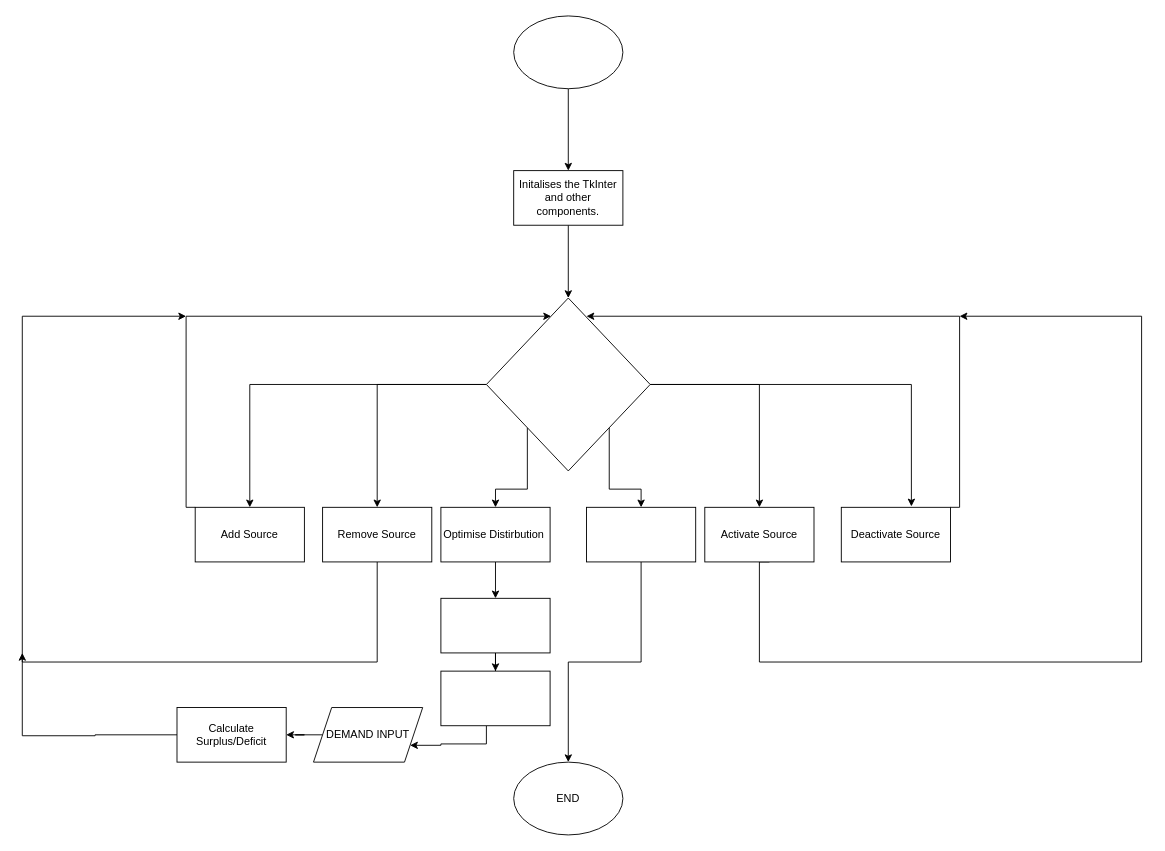
Image size: 1165x851. Some labels were removed from this diagram. The shapes that lost their labels are listed below. From the top down, each one's centre as x and y in pixels, then its label:
At (568,52): "START".
At (567,384): "USER ACTION?".
At (641,534): "Exit".
At (495,625): "ENTER DEMAND".
At (495,698): "Display Surplus/Deficit".
